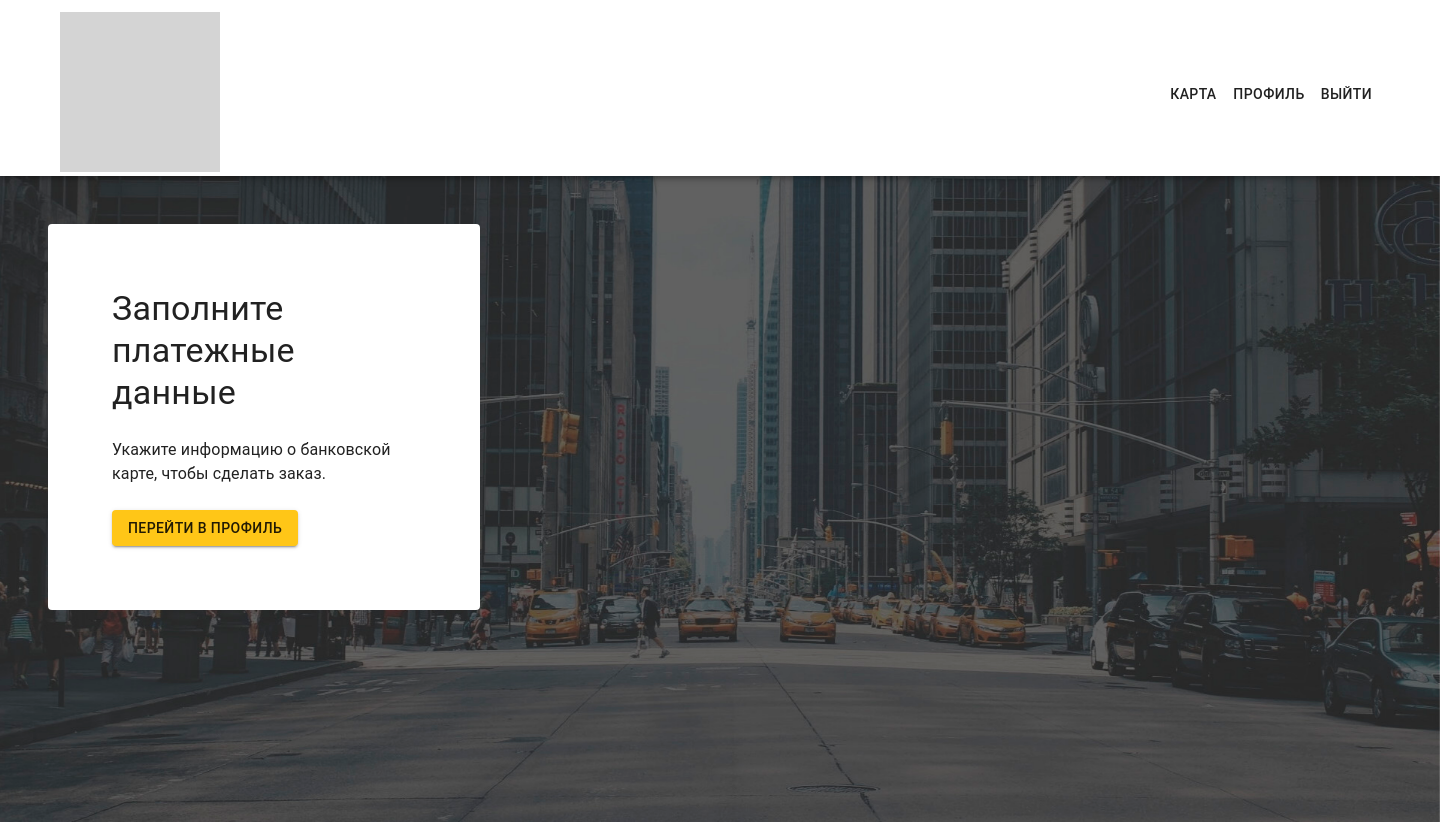
App Component › Перемещение по приватным страницам (Profile, Map) происходит корретно
Check: the heading "Заполните платежные данные" is shown, box [112,288,295,412]
Click the button "Профиль". click: {"x": 1269, "y": 94}
box: [1233,86,1305,102]
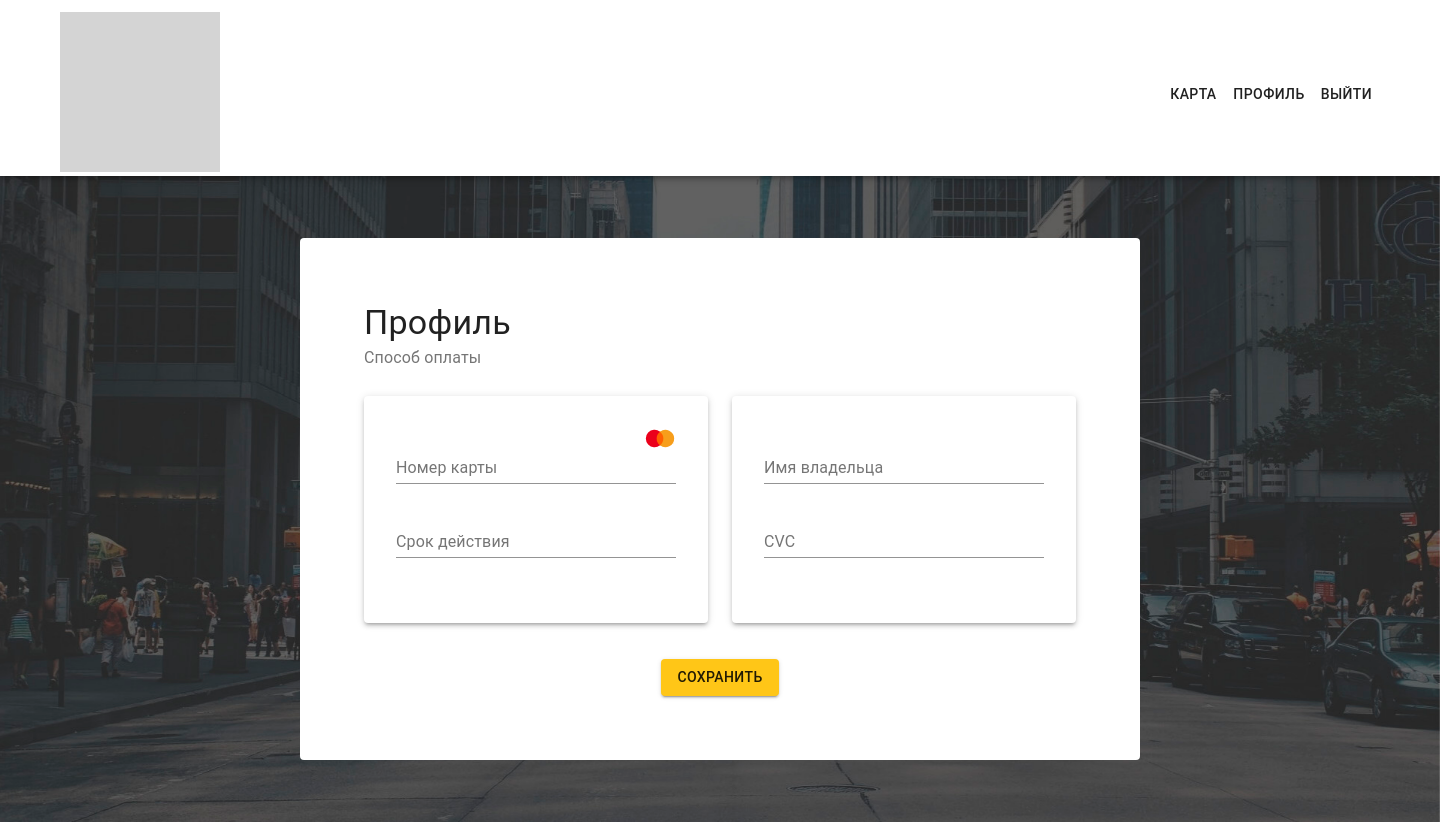
Check: the text "Способ оплаты" is shown, box [364,348,481,367]
Click the button "Карта". click: {"x": 1193, "y": 94}
box: [1170,86,1216,102]
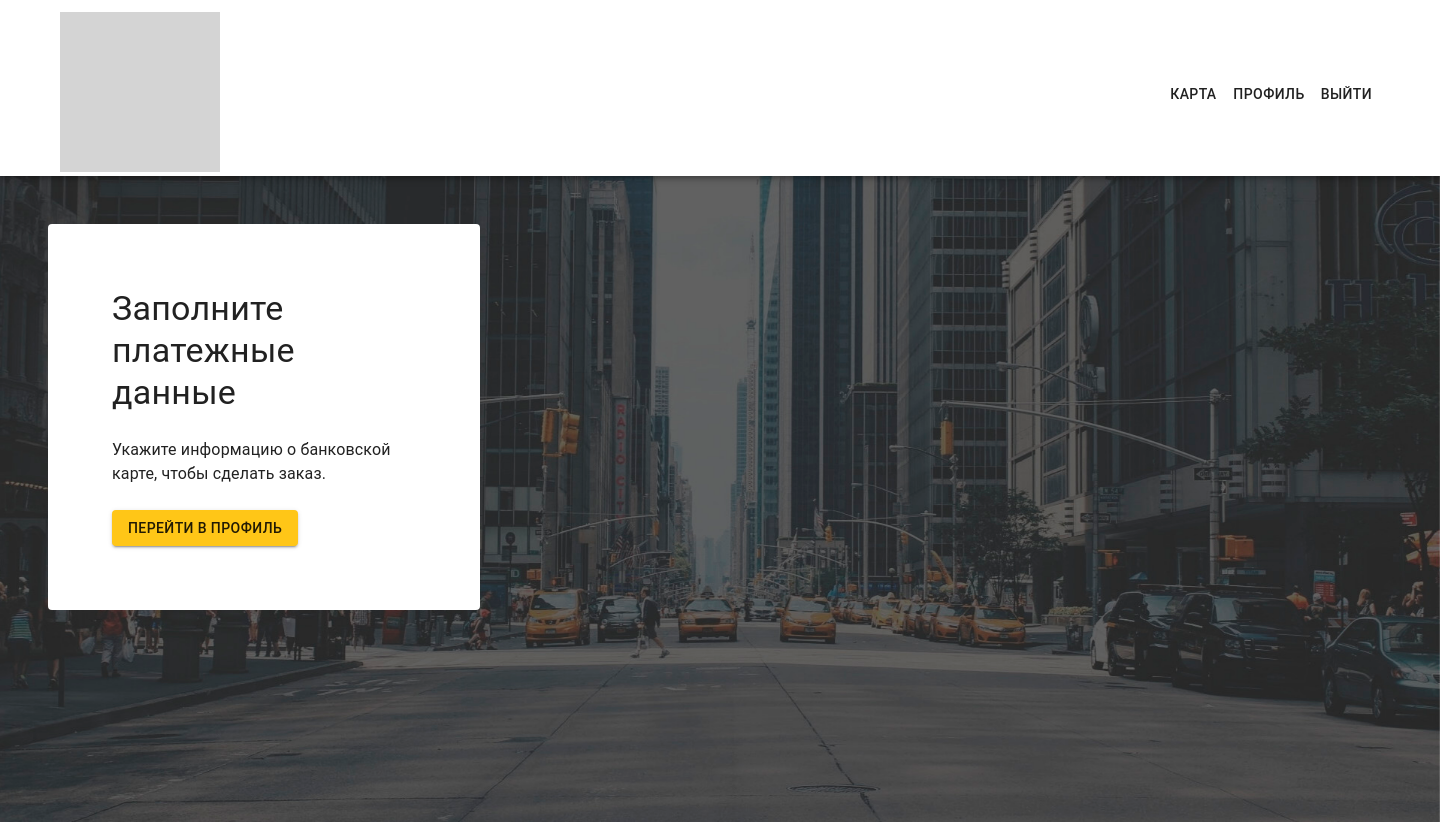
Check: the heading "Заполните платежные данные" is shown, box [112,288,295,412]
